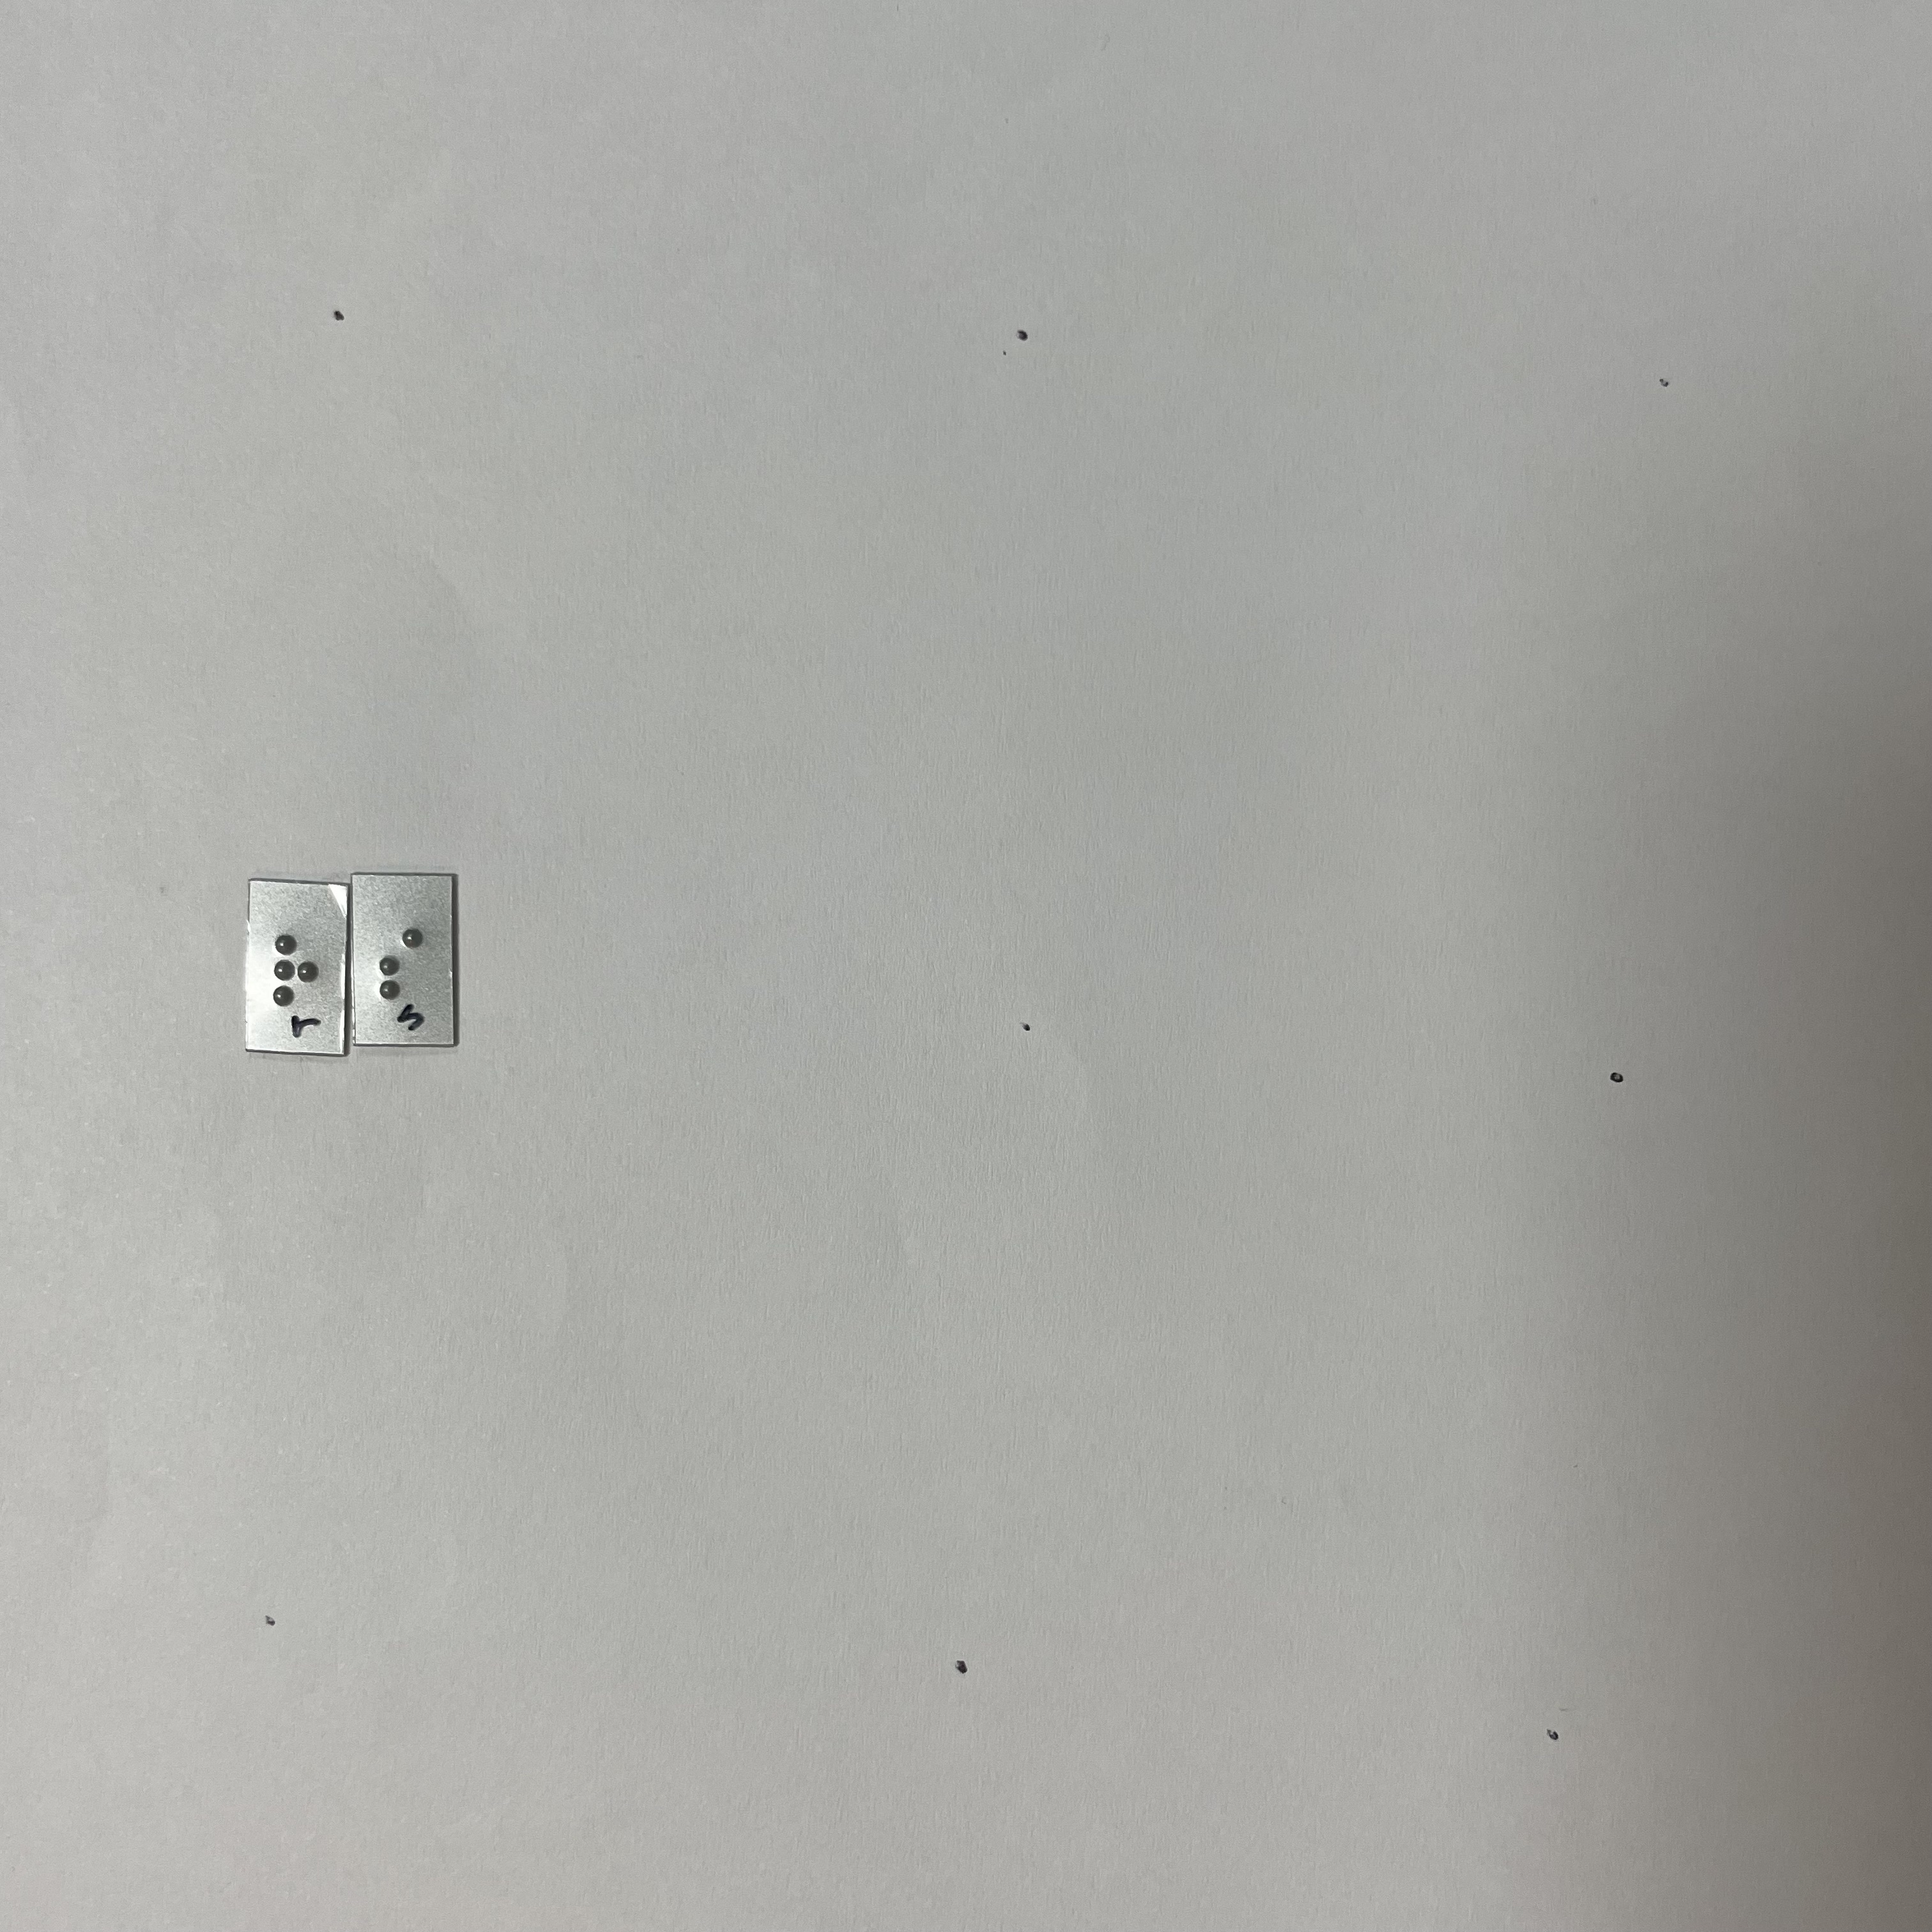r: (270, 928, 326, 1015)
s: (374, 921, 438, 1013)
